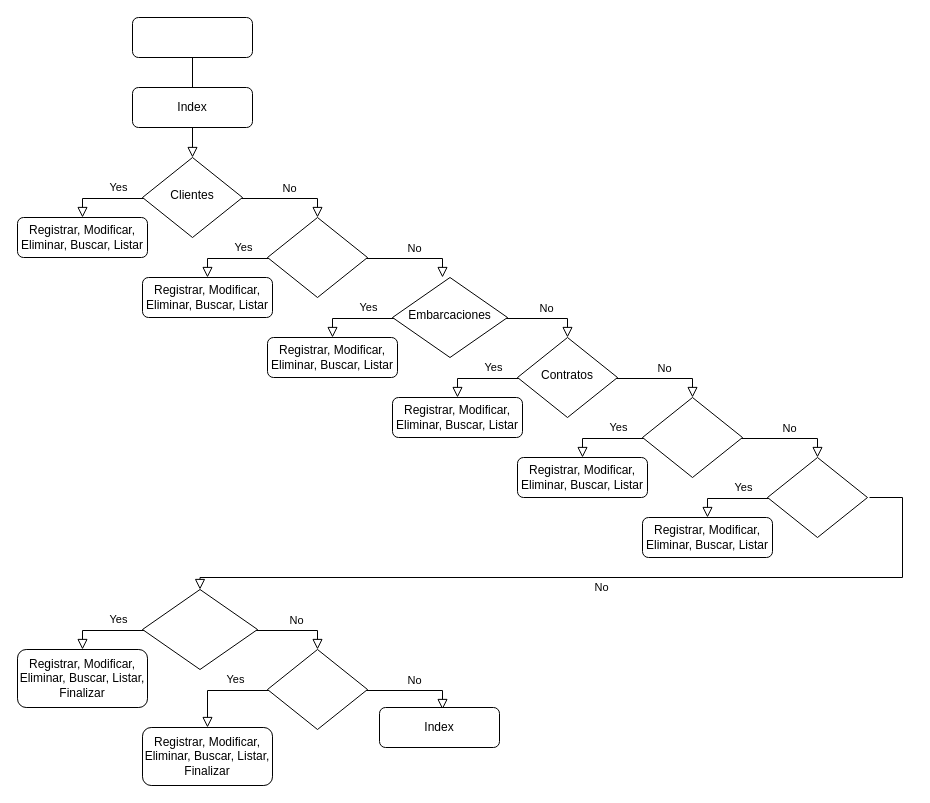
Some shapes in this 930 by 803 pixel diagram are drawn without their labels. Each missing label, with the box of its shape:
INICIO: (132, 16, 252, 58)
Mantenimiento: (142, 588, 258, 670)
Paseos: (642, 396, 742, 478)
Personal: (766, 456, 868, 538)
Propietarios: (266, 216, 368, 298)
Reparación: (266, 648, 368, 730)
